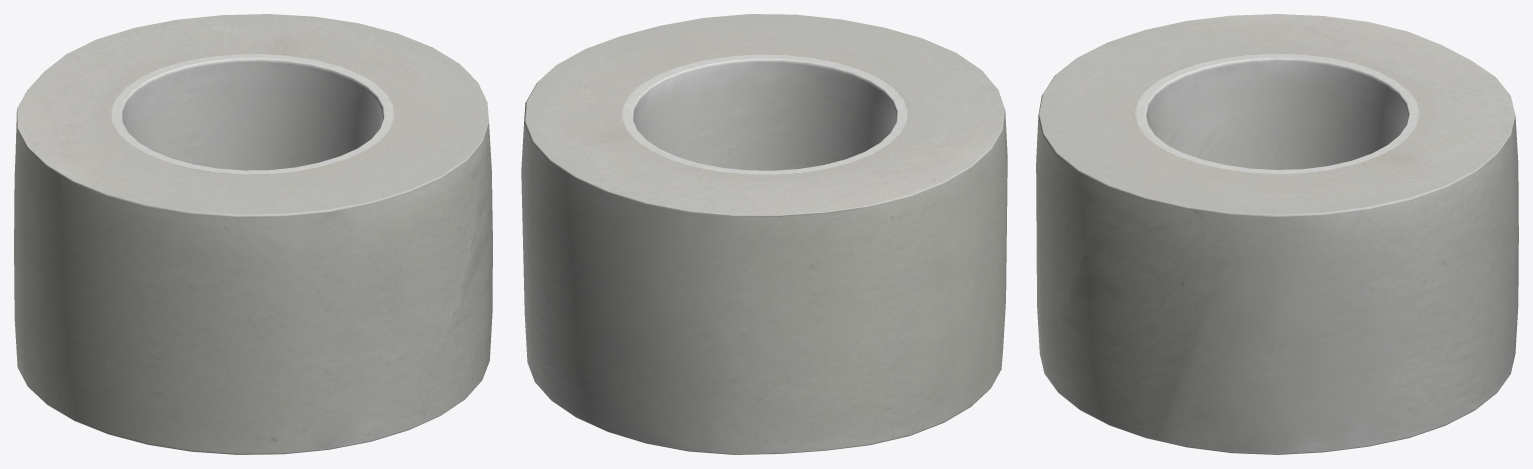
The model's file is medical_tape.glb.
The picture shows the model from 3 angles, left to right: view 1: azimuth 30°, elevation 25°; view 2: azimuth 150°, elevation 25°; view 3: azimuth 270°, elevation 25°; orthographic projection.
Parts seen in each view (by area): view 1: medical_tape; view 2: medical_tape; view 3: medical_tape.
Part boxes in pixels (box(x1,y1,x2,y2)): medical_tape: box(14, 14, 492, 454); medical_tape: box(521, 14, 1007, 454); medical_tape: box(1036, 14, 1518, 454).
Bounding box in the file's own units: 0.0453 × 0.025 × 0.0452.
1 material, 1 textured.
